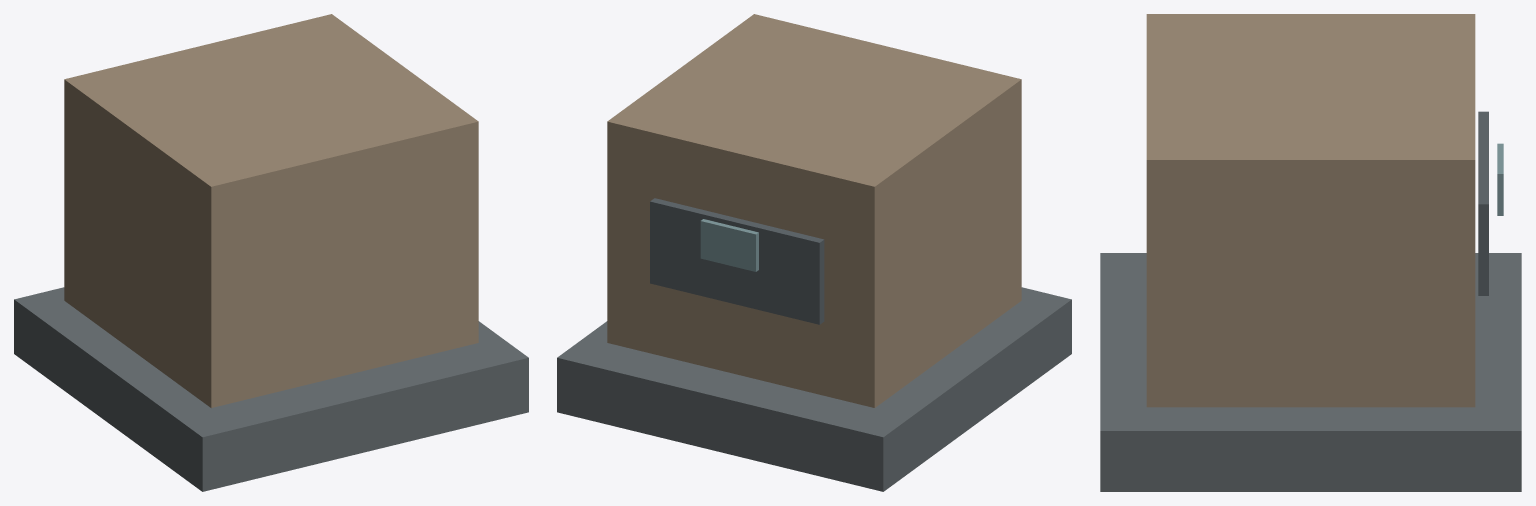
File: iz3_production_mechanic_02.glb
The picture shows the model from 3 angles, left to right: view 1: azimuth 30°, elevation 25°; view 2: azimuth 150°, elevation 25°; view 3: azimuth 270°, elevation 25°; orthographic projection. The views are drawn at different scales.
Visible parts, largest first — view 1: cabinet, base; view 2: cabinet, base, panel, display; view 3: cabinet, base, panel, display.
Part boxes in pixels (x1,y1,x2,y2): cabinet: (64, 14, 478, 407); base: (14, 287, 528, 491); cabinet: (607, 14, 1021, 407); base: (557, 287, 1071, 491); panel: (650, 198, 824, 324); display: (700, 219, 758, 271); cabinet: (1146, 14, 1475, 407); base: (1100, 253, 1521, 491); panel: (1478, 111, 1488, 295); display: (1497, 143, 1503, 215).
Size of the model in its own units: 2 by 1.66 by 2.
